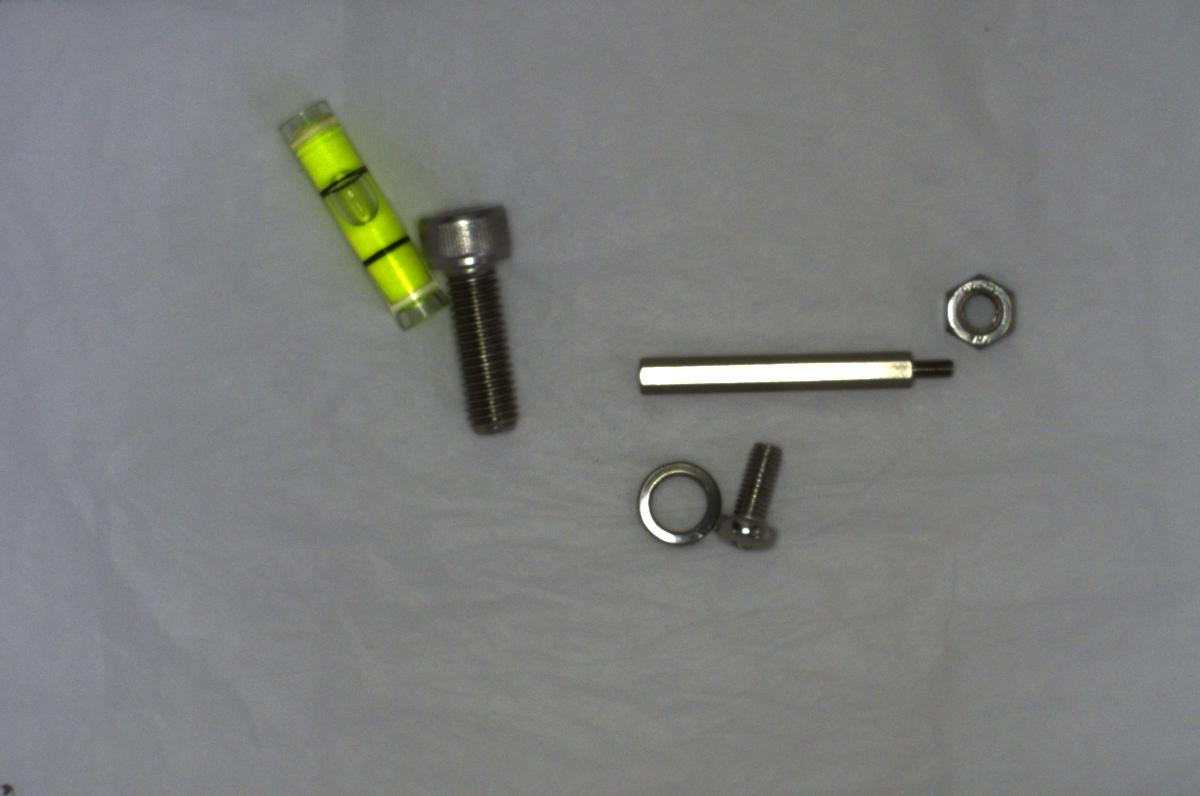Hexagon nut: (941, 263, 1021, 358)
Hexagon screw: (415, 195, 538, 445)
Hexagonal steel column: (625, 342, 962, 400)
Horizontal bubble: (269, 83, 451, 336)
Round head screw: (710, 430, 792, 555)
Spring washer: (637, 453, 724, 555)
